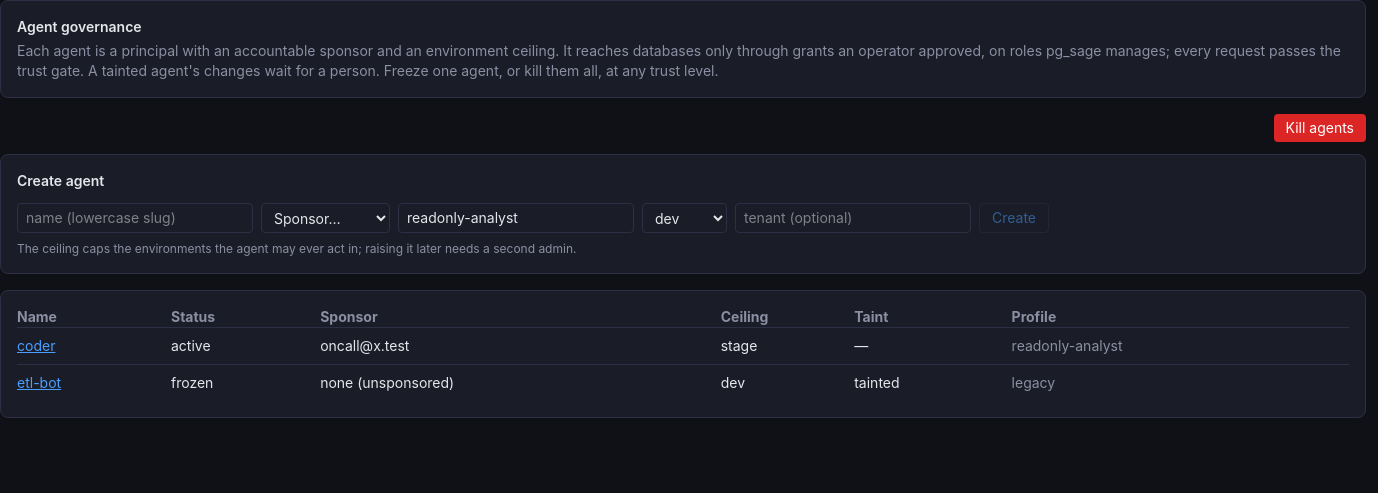
Test: AgentsPage create › shows a duplicate name refusal
Expected: the table with test id "agents-table" is shown, 17,307 -> 1349,401
Expected: the dropdown with test id "agent-create-sponsor" is shown, 261,203 -> 390,233
Type "coder" into the field with test id "agent-create-name" at x=135, y=218, box 17,203 -> 253,233
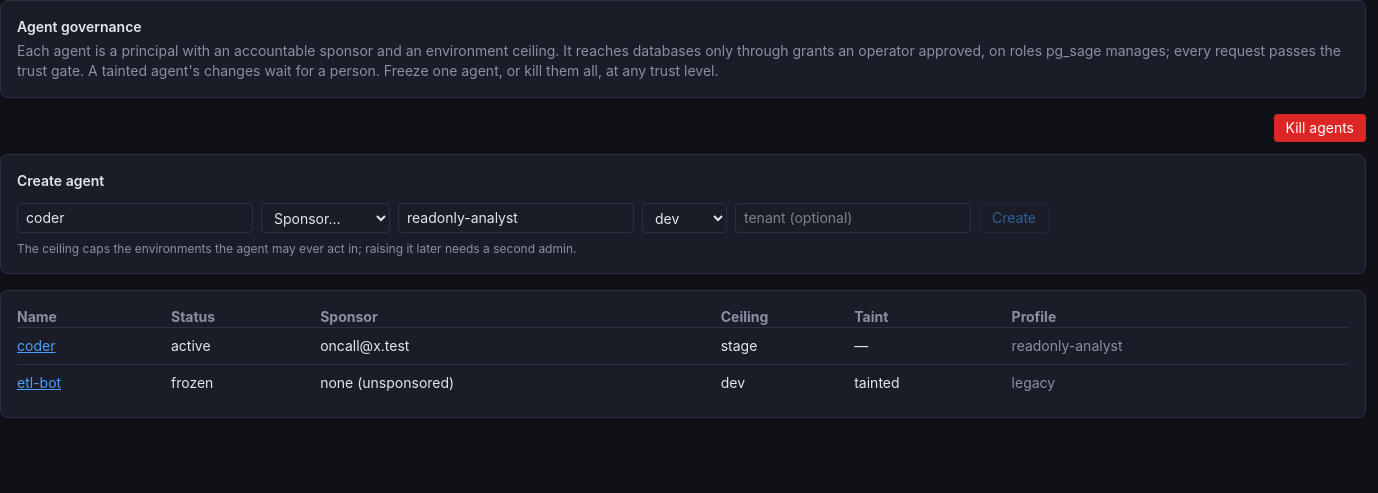
Select "oncall@x.test" in the dropdown with test id "agent-create-sponsor" at x=326, y=218, box 261,203 -> 390,233
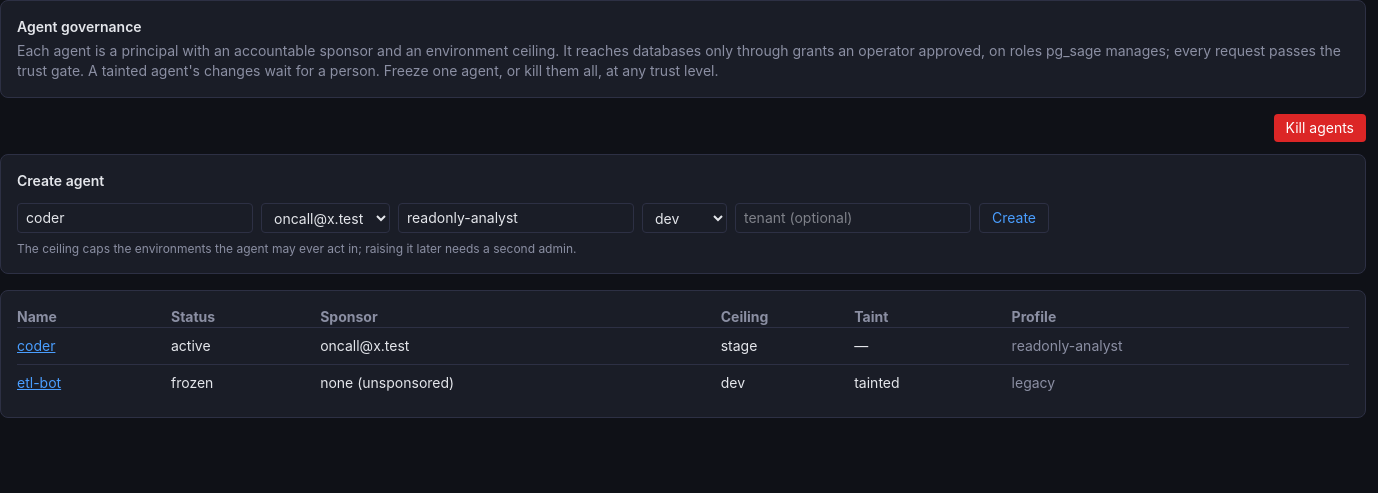
Click the button with test id "agent-create-submit" at x=1014, y=218, box 979,203 -> 1049,233
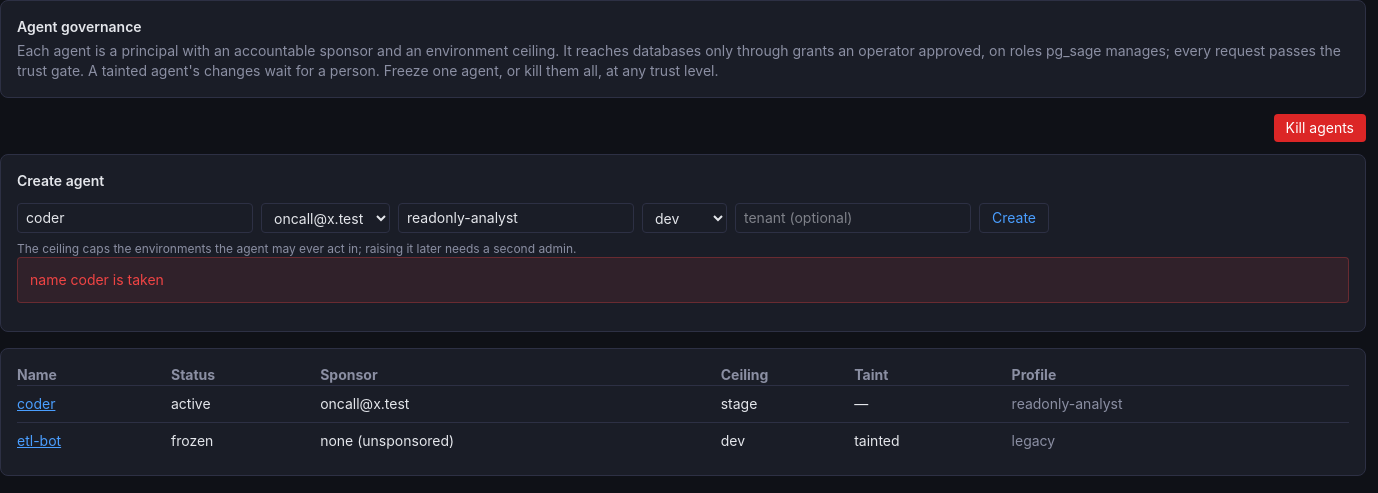
Now the message with test id "agent-create-error" reads "name coder is taken", box 30,271 -> 164,288
